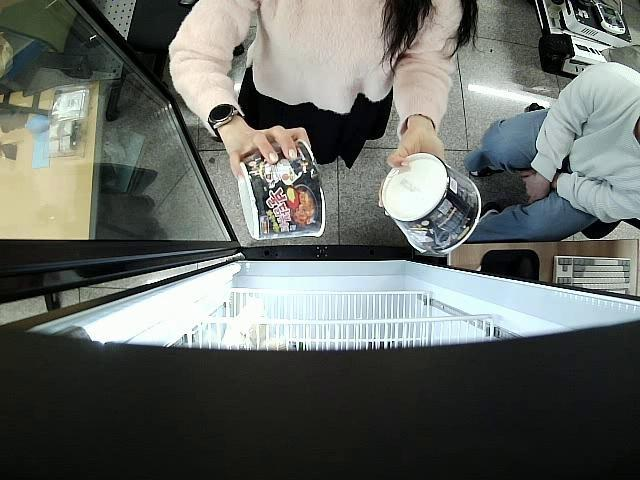07_buldak_L: (380, 154, 482, 254), (236, 139, 326, 242)
